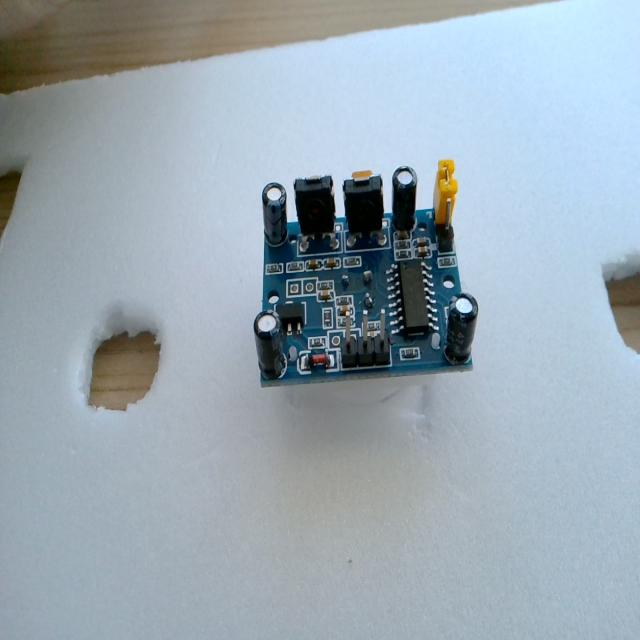Electrolytic capacitor: (445, 293, 478, 365), (253, 310, 287, 378), (261, 182, 288, 248), (392, 166, 418, 233)
IC: (388, 256, 438, 341)
